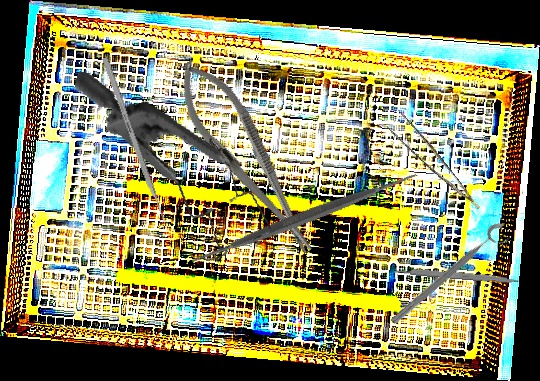Fixation Ring: (387, 219, 514, 335)
Needle Holder: (162, 49, 330, 267)
Pusher: (101, 56, 171, 233)
Scalpel Handle: (392, 265, 520, 285)
Spatula Surgical: (180, 93, 430, 343)
Speculum: (43, 70, 296, 274)
Tissue Forceps: (383, 107, 481, 223)
